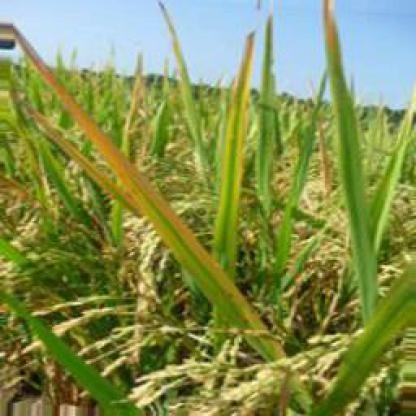Tungro: (3, 19, 255, 330), (224, 29, 252, 317), (312, 2, 354, 66)
